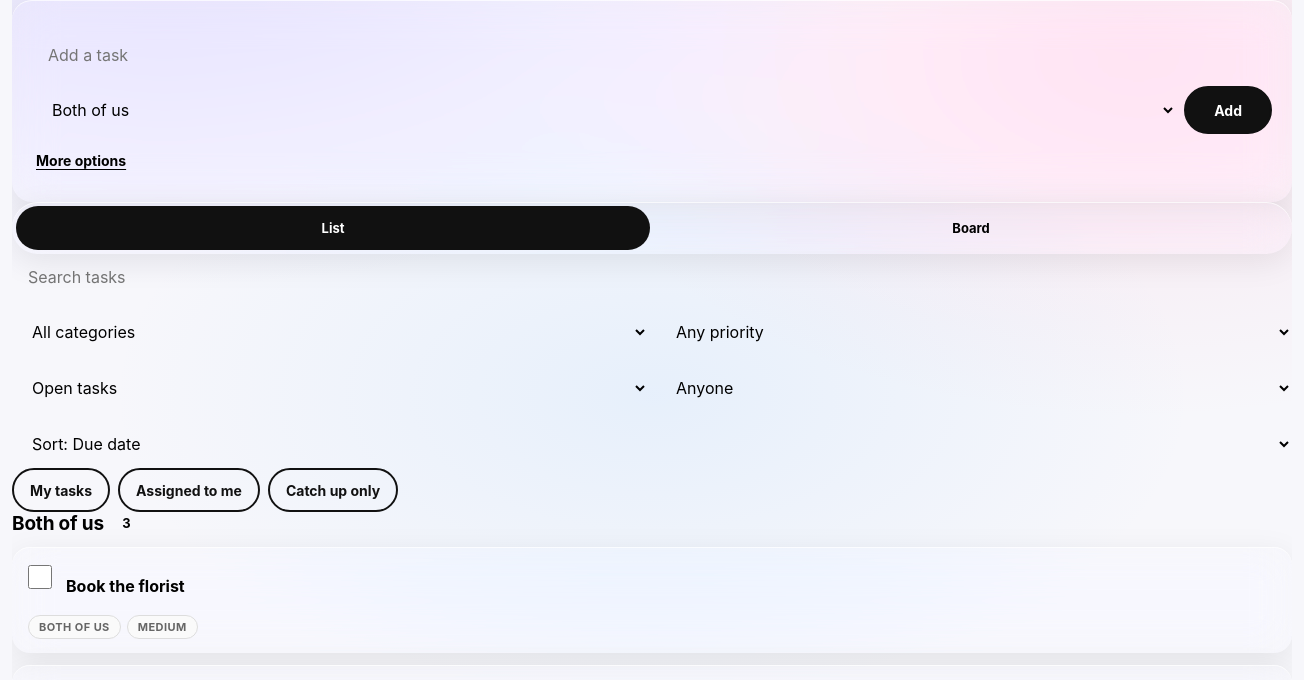
Test: chips and filters › filters by person and by not assigned
Expected: the button "Book the florist" is shown, [66, 561, 1276, 605]
Select "Sam (helper)" in the dropdown named "Filter by person" at point(974, 388), box [656, 364, 1292, 412]
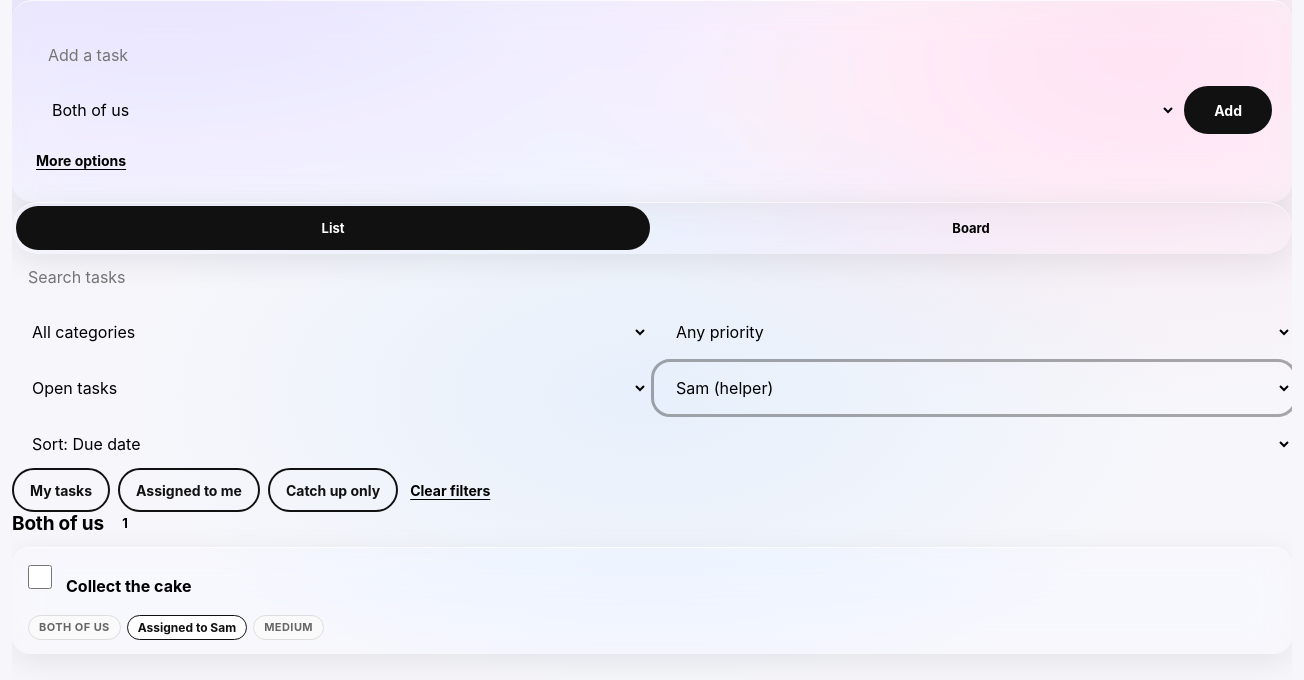
Expected: the button "Collect the cake" is shown, [66, 561, 1276, 605]
Select "Not assigned" in the dropdown named "Filter by person" at point(974, 388), box [656, 364, 1292, 412]
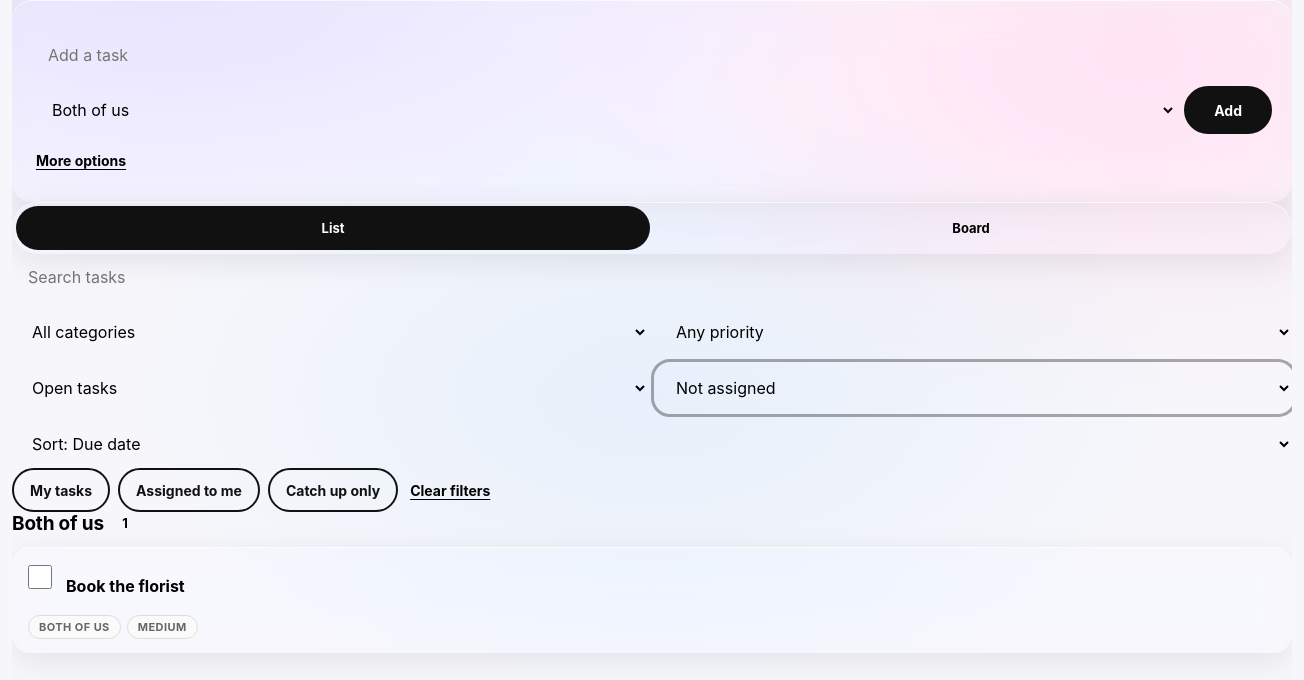
Expected: the button "Book the florist" is shown, [66, 561, 1276, 605]
Expected: the button "Collect the cake" is gone
